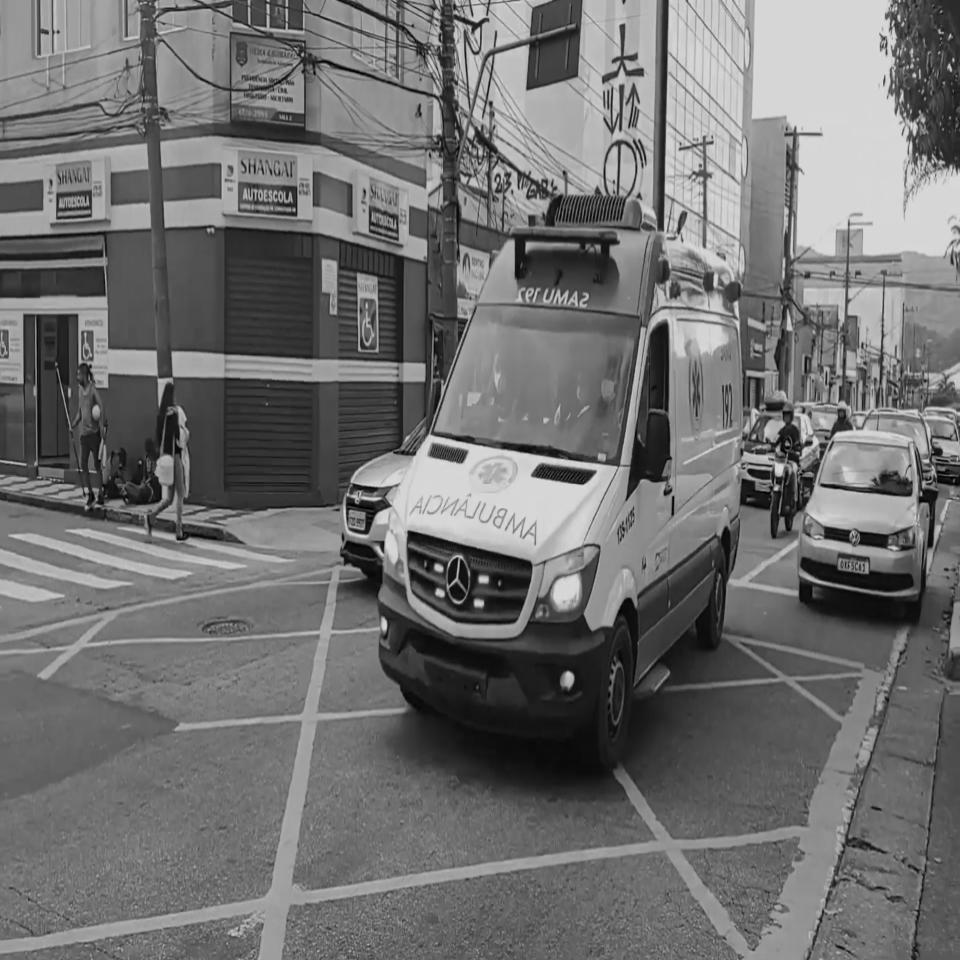ambulancia: (379, 194, 742, 769)
